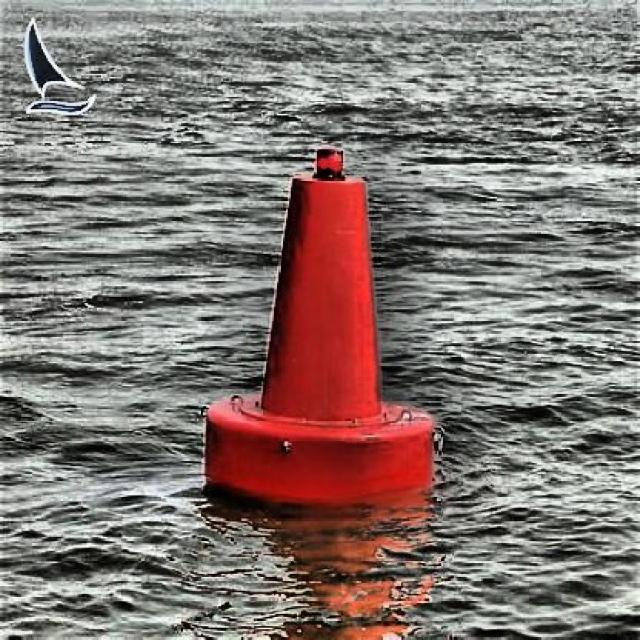Red Buoy: (204, 148, 436, 508)
